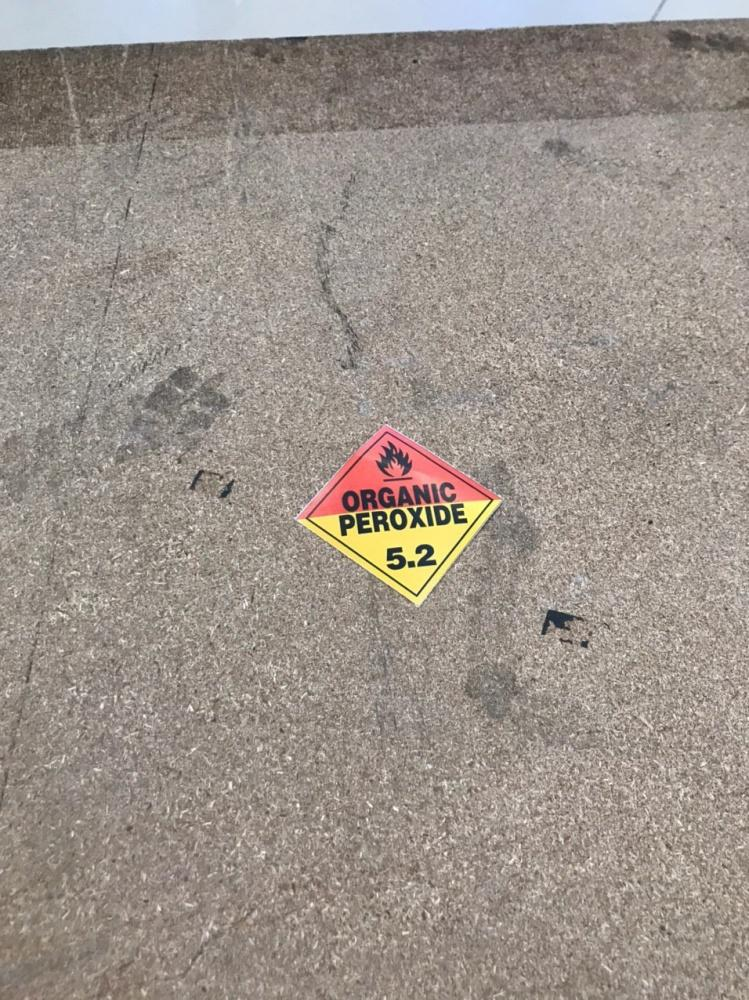organic-peroxide: (308, 432, 486, 597)
